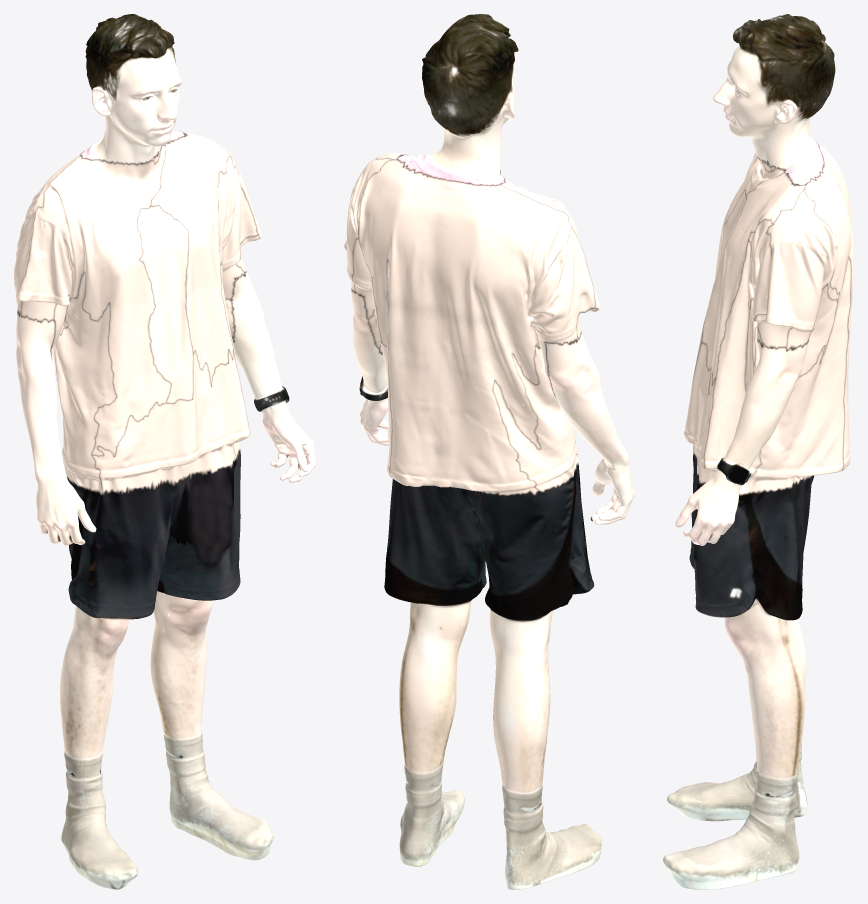
The picture shows the model from 3 angles, left to right: view 1: azimuth 30°, elevation 25°; view 2: azimuth 150°, elevation 25°; view 3: azimuth 270°, elevation 25°; orthographic projection. The views are drawn at different scales.
Parts seen in each view (by area): view 1: Object_2, Object_3, Object_4; view 2: Object_2, Object_3, Object_4; view 3: Object_3, Object_4, Object_2.
Boxes of the visible parts, bbox=[...] form: Object_2: bbox=[16, 14, 315, 889]; Object_3: bbox=[14, 14, 273, 860]; Object_4: bbox=[20, 131, 314, 590]; Object_2: bbox=[352, 32, 634, 889]; Object_3: bbox=[359, 14, 632, 866]; Object_4: bbox=[344, 152, 634, 495]; Object_3: bbox=[663, 14, 852, 889]; Object_4: bbox=[690, 172, 839, 617]; Object_2: bbox=[667, 14, 853, 889].
Size of the model in its own units: 5.61 by 16.48 by 3.45.
1 material, 1 textured.
